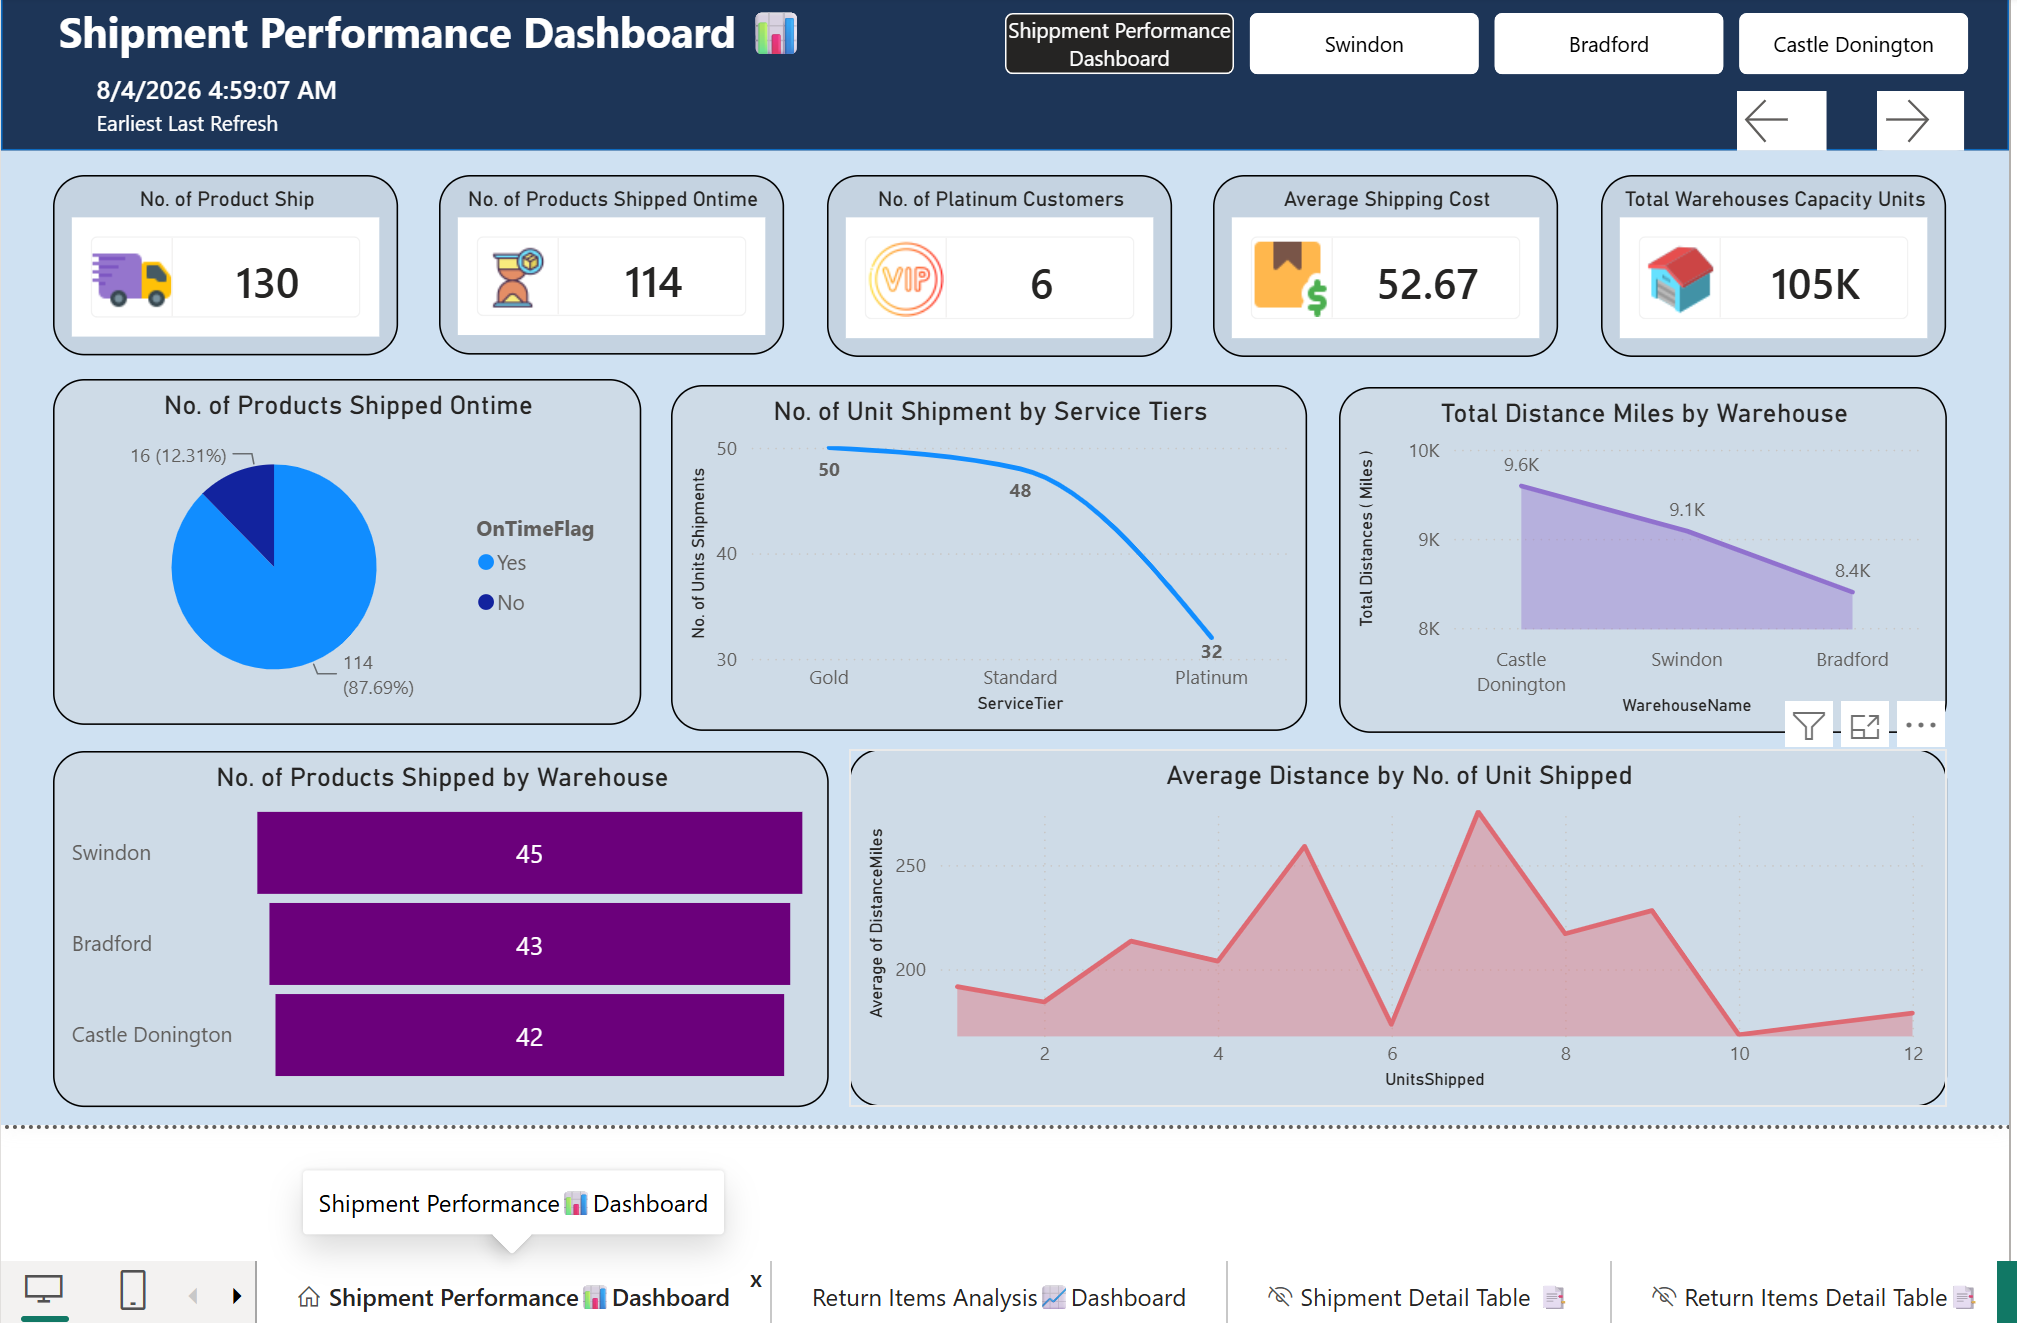

This screenshot's page, from the dashboard's own definition file:
{"tool":"powerbi","page":{"name":"Shipment Performance📊Dashboard","canvas":[1280,720],"ordinal":0},"visuals":[{"type":"shape","box":[0,0,1280,99.1],"z":0},{"type":"actionButton","box":[1106.6,61.2,57.2,38.2],"z":0,"group":"g1"},{"type":"textbox","box":[31.9,0,508.7,49.7],"z":1000},{"type":"actionButton","box":[1196.4,61.2,55.5,38.2],"z":1000,"group":"g1"},{"type":"cardVisual","fields":{"Data":["Min(Toronto Auto Time Refershers.Last Refresh)"]},"box":[31.9,24.8,290.3,90.3],"z":2000},{"type":"cardVisual","title":"No. of Product Ship ","fields":{"Data":["CountNonNull(Fact_Shipment.ProductID)"]},"box":[33.1,115.2,220,115],"z":3000,"group":"g2"},{"type":"pieChart","title":"No. of Products Shipped Ontime","fields":{"Y":["CountNonNull(Fact_Shipment.ProductID)"],"Category":["Fact_Shipment.OnTimeFlag"]},"box":[33.1,244.8,374.8,220.6],"z":3000},{"type":"cardVisual","title":"No. of Products Shipped Ontime","fields":{"Data":["CountNonNull(Fact_Shipment.OnTimeFlag)"]},"box":[279.7,115.3,220,114.7],"z":4000,"group":"g2"},{"type":"lineChart","title":"No. of Unit Shipment by Service Tiers","fields":{"Category":["Dim_Customer.ServiceTier"],"Y":["CountNonNull(Fact_Shipment.UnitsShipped)"]},"box":[427.1,248.6,405.4,220.6],"z":4000},{"type":"cardVisual","title":"No. of Platinum Customers","fields":{"Data":["CountNonNull(Dim_Customer.ServiceTier)"]},"box":[526.2,114.7,220,116],"z":5000,"group":"g2"},{"type":"funnel","title":"No. of Products Shipped by Warehouse","fields":{"Category":["Dim_Warehouse.WarehouseName"],"Y":["CountNonNull(Fact_Shipment.ProductID)"]},"box":[33.1,481.9,494.7,226.9],"z":5000},{"type":"cardVisual","title":"Total Warehouses Capacity Units","fields":{"Data":["Sum(Dim_Warehouse.CapacityUnits)"]},"box":[1019.3,114.7,220,116],"z":6000,"group":"g2"},{"type":"areaChart","title":"Total Distance Miles by Warehouse","fields":{"Category":["Dim_Warehouse.WarehouseName"],"Y":["Sum(Fact_Shipment.DistanceMiles)"]},"box":[852.9,249.9,387.6,220.6],"z":6000},{"type":"areaChart","title":"Average Distance by No. of Unit Shipped","fields":{"Y":["Avg(Fact_Shipment.DistanceMiles)"],"Category":["Fact_Shipment.UnitsShipped"]},"box":[540.6,480.6,699.9,228.2],"z":7000},{"type":"bookmarkNavigator","title":"Category Base On WareHouse","box":[640,11.5,617.1,39.5],"z":8000},{"type":"group","id":"g1","title":"Group 2","box":[1106.6,61.2,145.3,38.2],"z":9000},{"type":"group","id":"g2","title":"Group 1","box":[33.1,114.7,1207.3,116],"z":10000},{"type":"cardVisual","title":"Average Shipping Cost","fields":{"Data":["Avg(Fact_Shipment.ShippingCost)"]},"box":[772.8,114.7,220,116],"z":11504,"group":"g2"}]}

Visuals, with their boxes on the page's 1280x720 design canvas (x1, y1, x2, y2). These are canvas units, not pixel positions in the 2017x1323 screenshot, which may show the page scaled, cropped or inside an application window:
shape: [0,0,1280,99]
actionButton: [1107,61,1164,99]
textbox: [32,0,541,50]
actionButton: [1196,61,1252,99]
cardVisual - Min(Toronto Auto Time Refershers.Last Refresh): [32,25,322,115]
"No. of Product Ship " cardVisual: [33,115,253,230]
"No. of Products Shipped Ontime" pieChart: [33,245,408,465]
"No. of Products Shipped Ontime" cardVisual: [280,115,500,230]
"No. of Unit Shipment by Service Tiers" lineChart: [427,249,832,469]
"No. of Platinum Customers" cardVisual: [526,115,746,231]
"No. of Products Shipped by Warehouse" funnel: [33,482,528,709]
"Total Warehouses Capacity Units" cardVisual: [1019,115,1239,231]
"Total Distance Miles by Warehouse" areaChart: [853,250,1240,470]
"Average Distance by No. of Unit Shipped" areaChart: [541,481,1240,709]
"Category Base On WareHouse" bookmarkNavigator: [640,12,1257,51]
"Group 2" group: [1107,61,1252,99]
"Group 1" group: [33,115,1240,231]
"Average Shipping Cost" cardVisual: [773,115,993,231]
